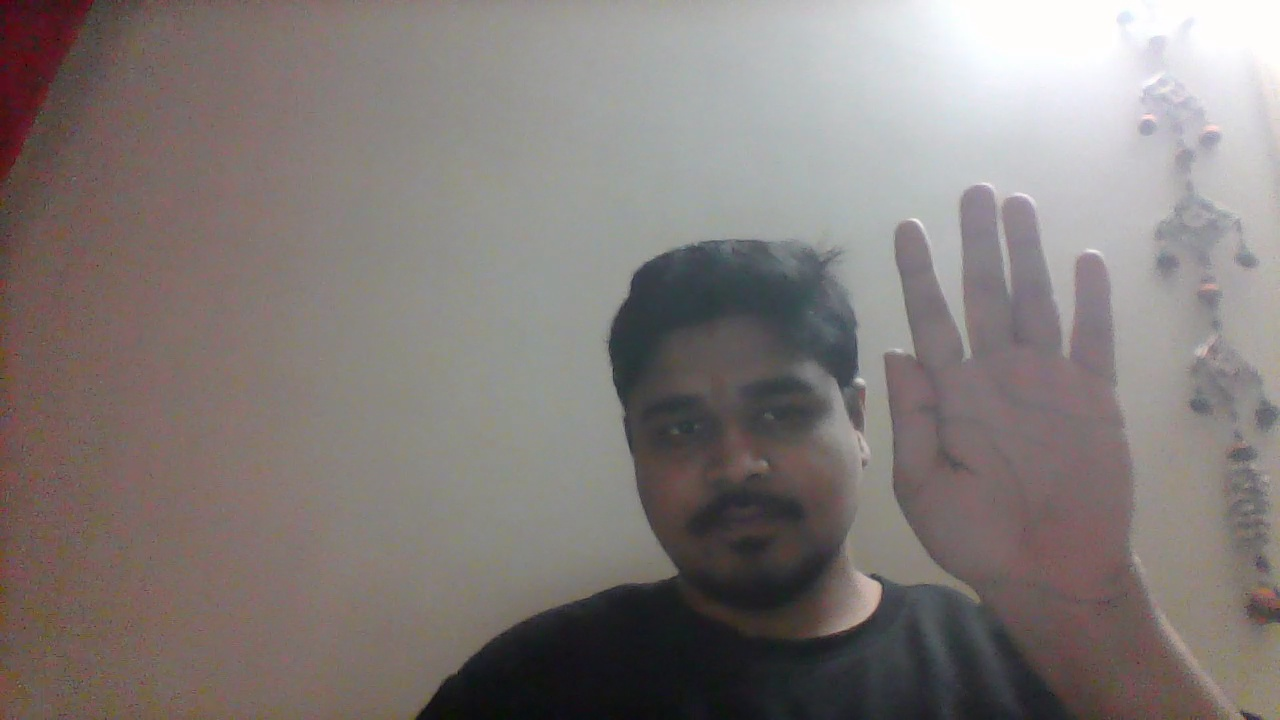Hello: (880, 186, 1141, 613)
